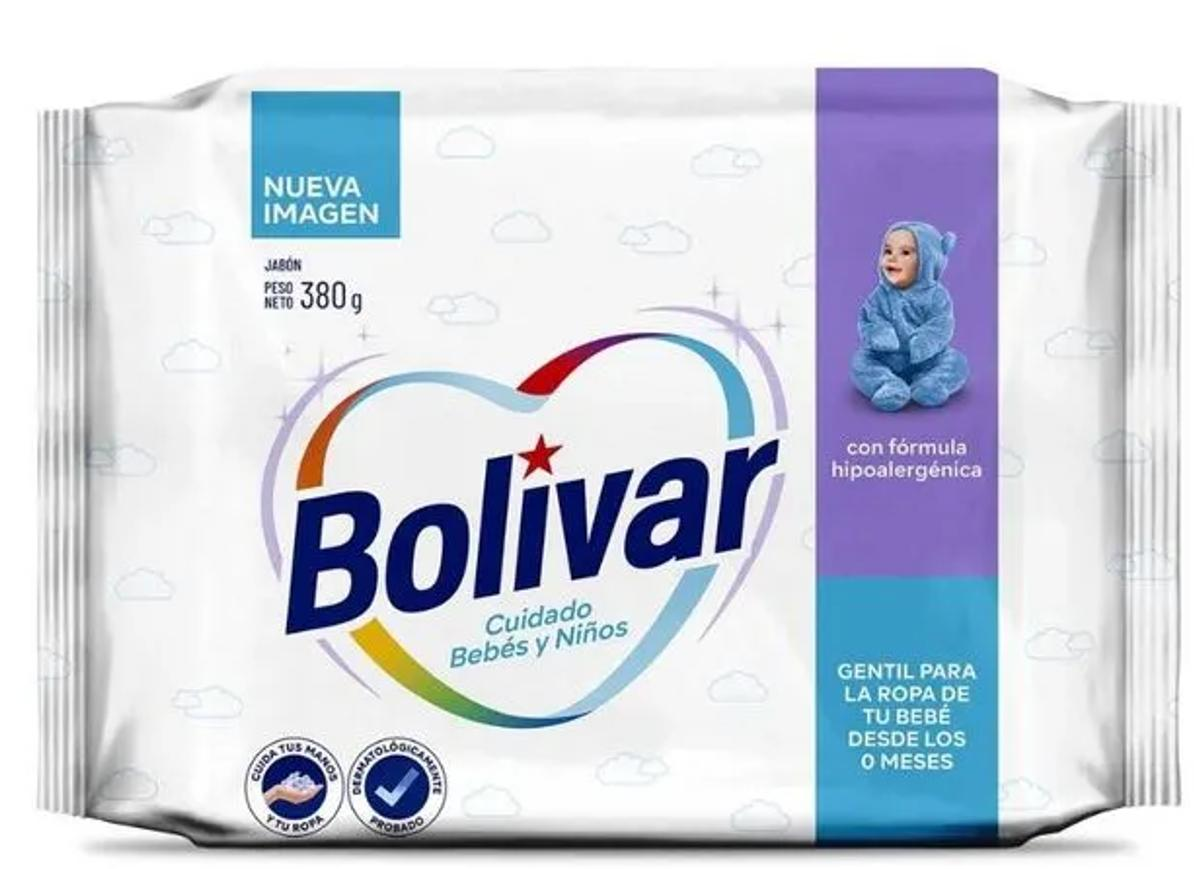brand: (272, 413, 800, 652)
extra_detail: (433, 576, 642, 682)
net_weight: (299, 279, 368, 317)
